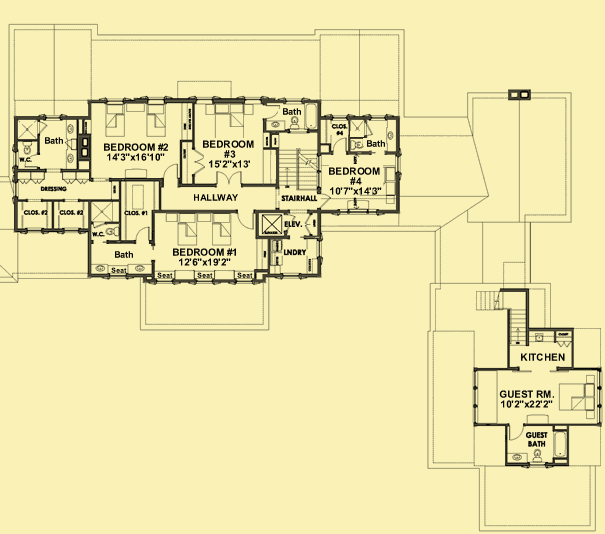bathroom has a shower space, dual sink, and large sink: (15, 118, 78, 170)
bathroom has a small and large sink and shower: (346, 117, 398, 156)
bathroom has a tub, small and large sink: (505, 426, 568, 468)
bathroom has a tub, small and large sinks: (267, 99, 318, 131)
bathroom has dual sinks, large sinks, and shower space: (87, 202, 153, 275)
bedroom has a double bed and bedside stools: (190, 99, 280, 186)
bedroom has a double bed with bedside stools: (474, 370, 601, 427)
bedroom has twin beds and bedside stools: (152, 211, 257, 285)
bedroom has twin beds and table in between: (88, 102, 179, 180)
